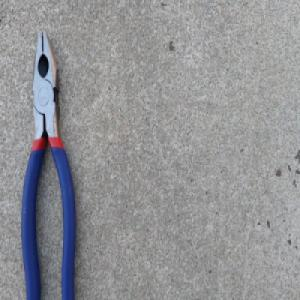Pliers: (19, 34, 79, 300)
